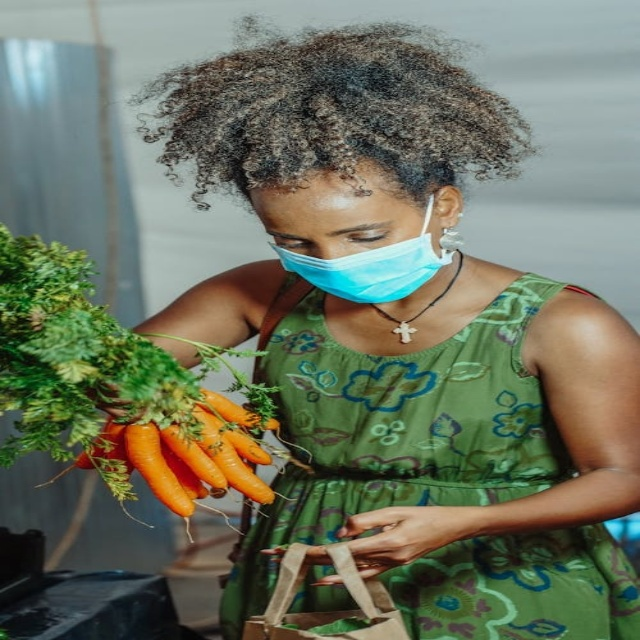Mascara: (268, 193, 457, 302)
Sin_gafas: (266, 213, 411, 256)
Sin_guantes: (267, 508, 452, 579)
